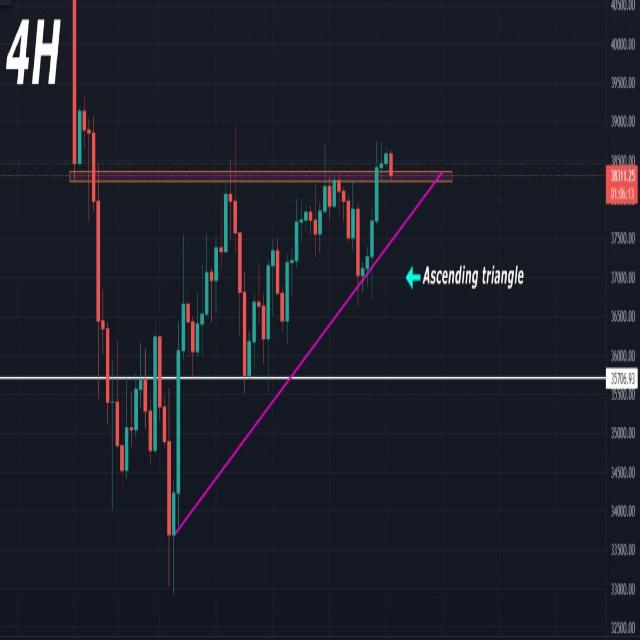Ascending-Triangle: (66, 139, 481, 635)
